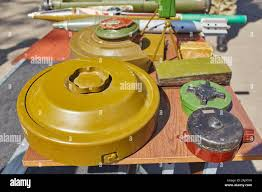car: (11, 47, 176, 174)
